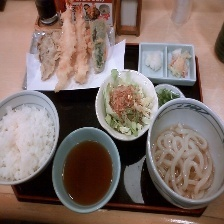rice: (0, 101, 57, 182)
